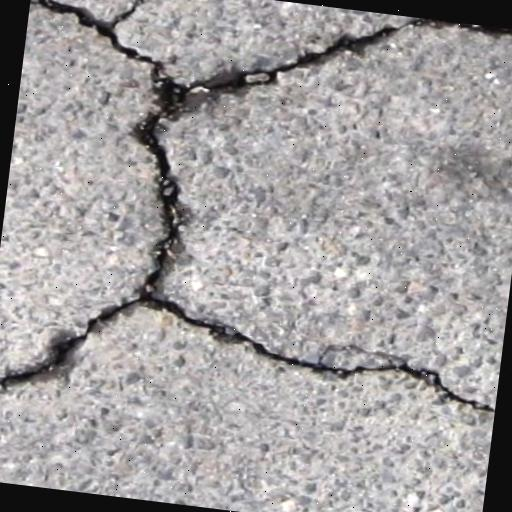spalling: (0, 0, 512, 420)
